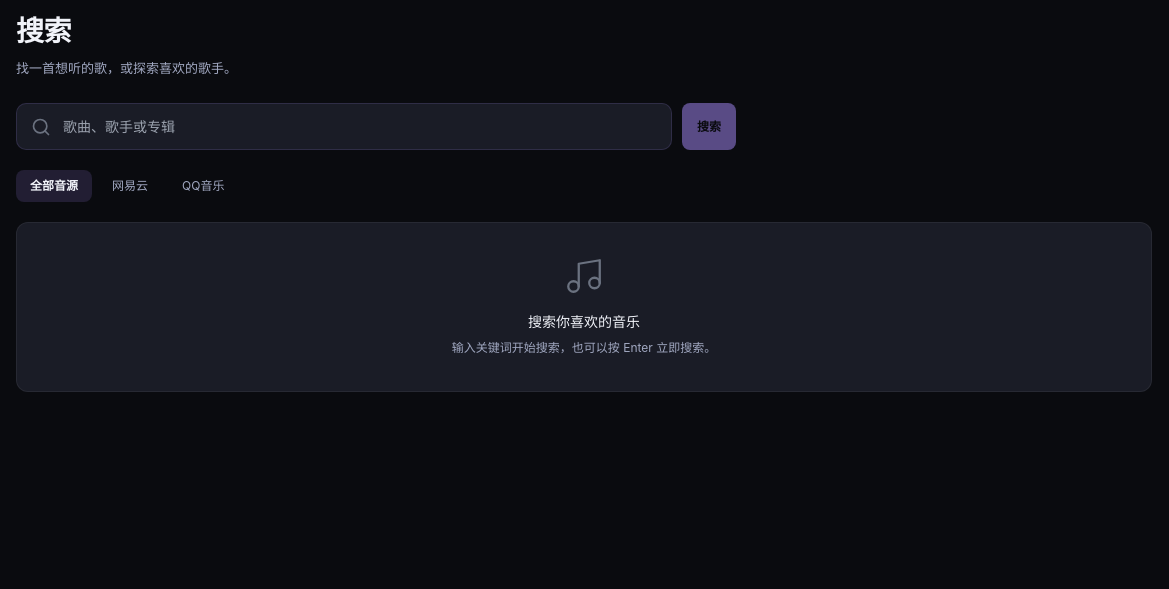
Test: 切换音源后的新响应优先，迟到旧响应不能替换歌曲
Type "海" into the search field at (362, 127), box [63,110,661,144]
Wait 450 ms
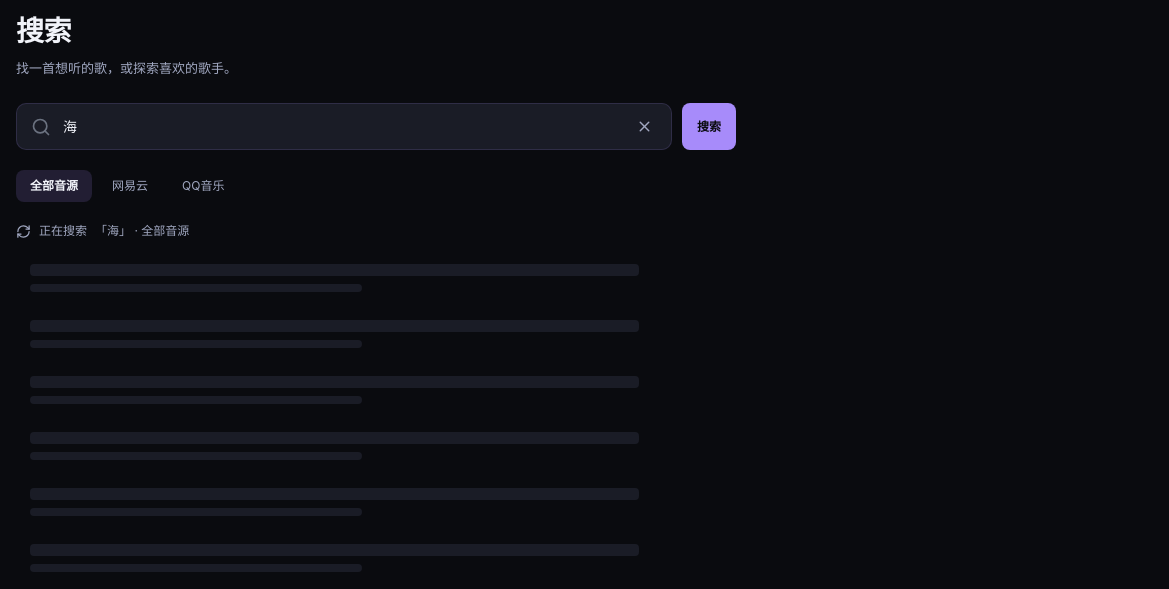
Click the tab "QQ音乐" at (203, 186), box [168,170,238,202]
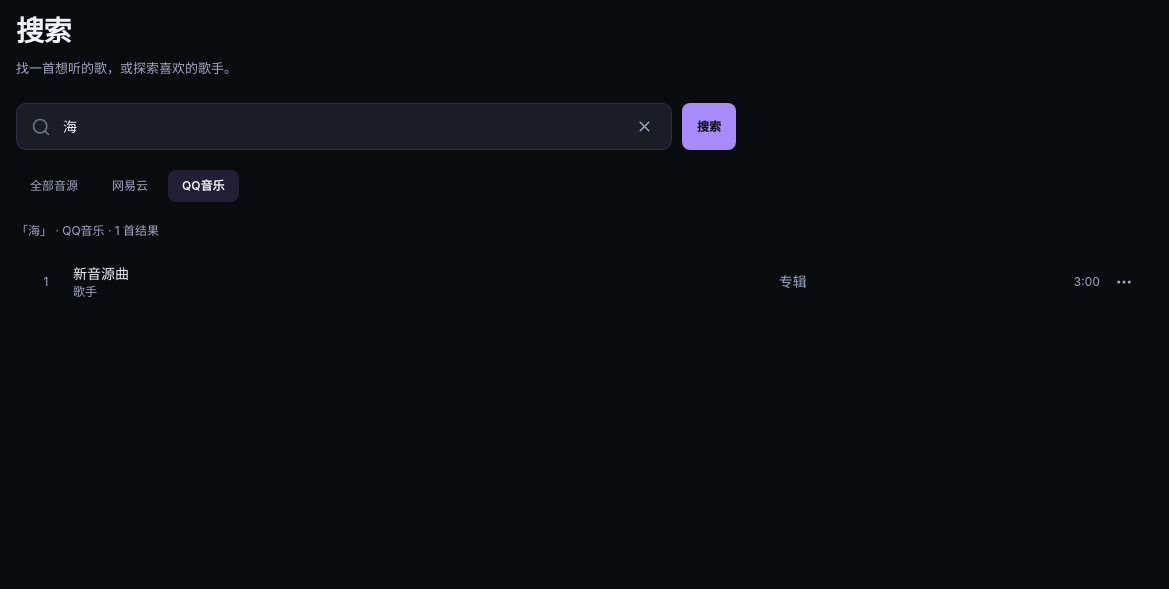
Now the text "新音源曲" is shown, box [73,266,129,282]
Now the message shows "QQ音乐", box [62,224,105,238]
